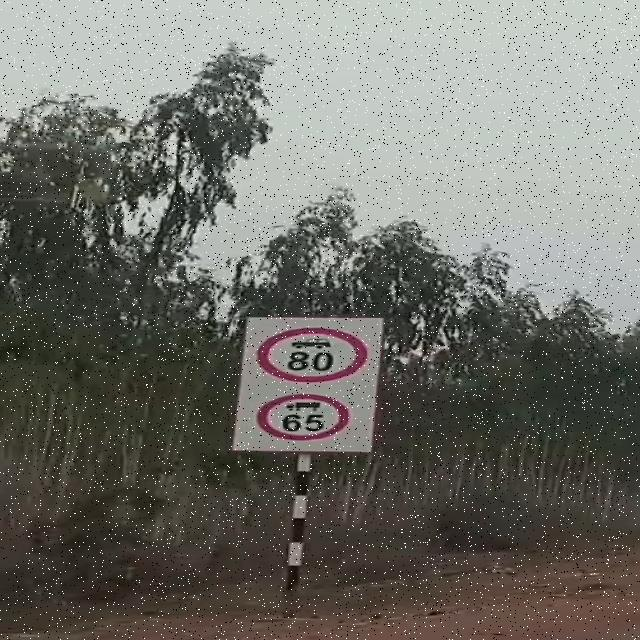speedlimit_65: (256, 396, 352, 444)
speedlimit_80: (261, 330, 369, 380)
